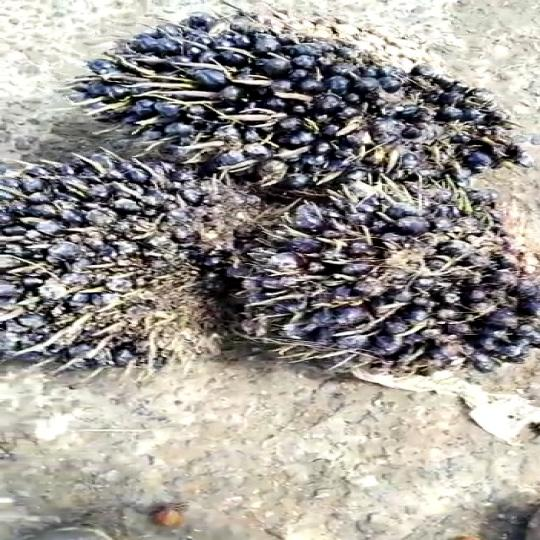mentah: (81, 12, 524, 197), (221, 185, 540, 390), (0, 139, 250, 360)
